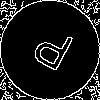P: (25, 25, 77, 81)
